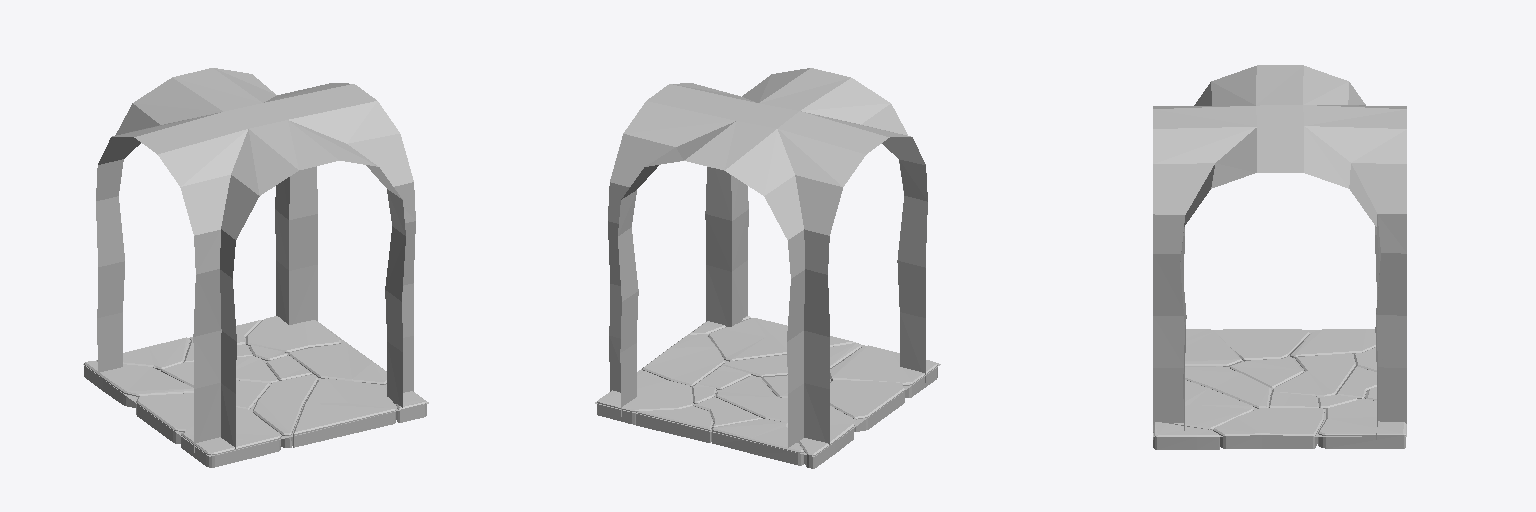
Rendered from Hallway_Crossing.obj.
3 renders of one model, left to right at view 1: azimuth 30°, elevation 25°; view 2: azimuth 150°, elevation 25°; view 3: azimuth 270°, elevation 25°, orthographic.
Visible parts, largest first — view 1: Hallway_Crossing; view 2: Hallway_Crossing; view 3: Hallway_Crossing.
Part boxes in pixels (left/top/right/bottom): Hallway_Crossing: left=83, top=68, right=428, bottom=467; Hallway_Crossing: left=595, top=68, right=940, bottom=468; Hallway_Crossing: left=1153, top=65, right=1406, bottom=449.
Size of the model in its own units: 2 by 2.45 by 2.